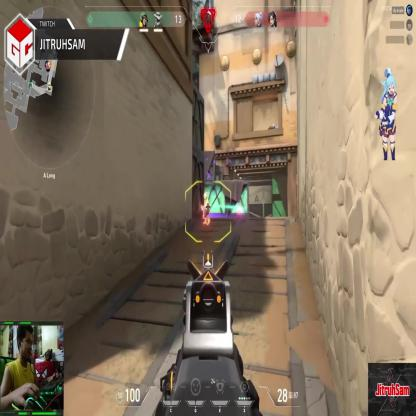enemy: (202, 193, 210, 225)
enemy_head: (203, 193, 207, 200)
